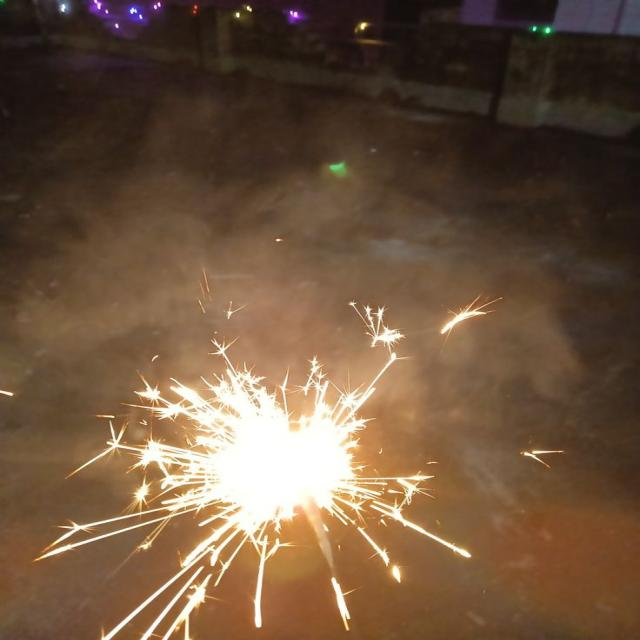fire: (137, 371, 356, 535)
